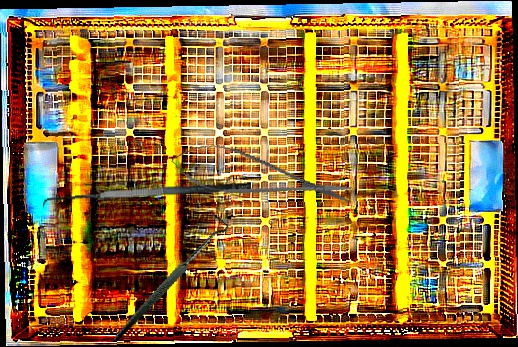Hook Surgical: (84, 209, 253, 344)
Micro Scissor: (167, 136, 355, 218)
Spatula Surgical: (42, 180, 252, 217)
